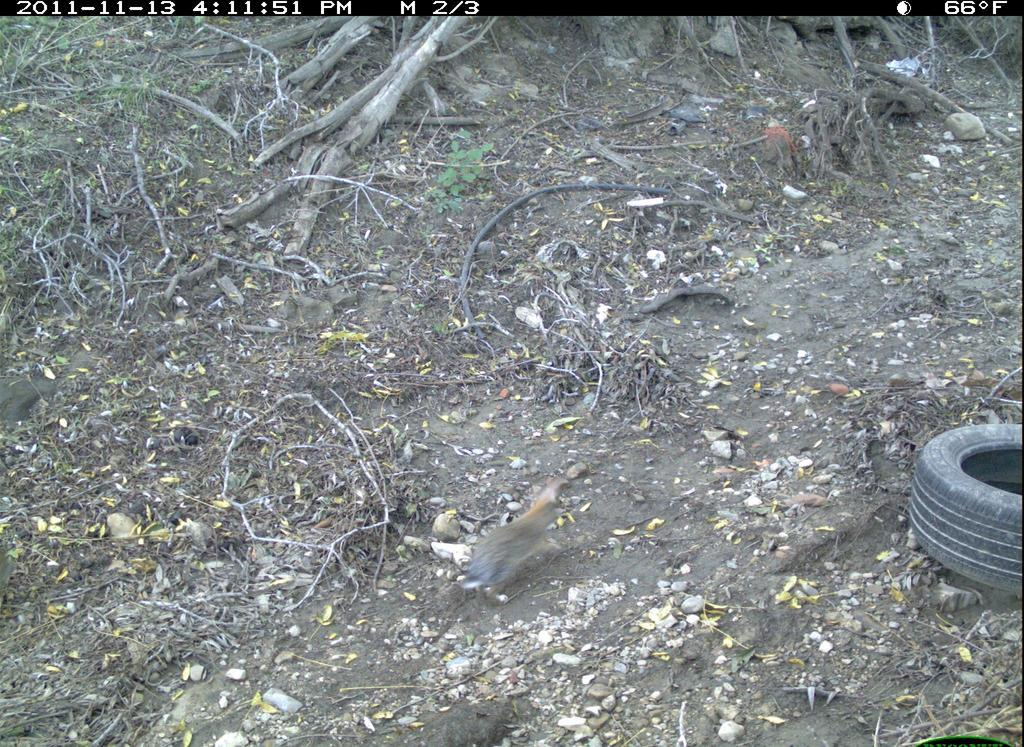rabbit: (450, 473, 583, 614)
